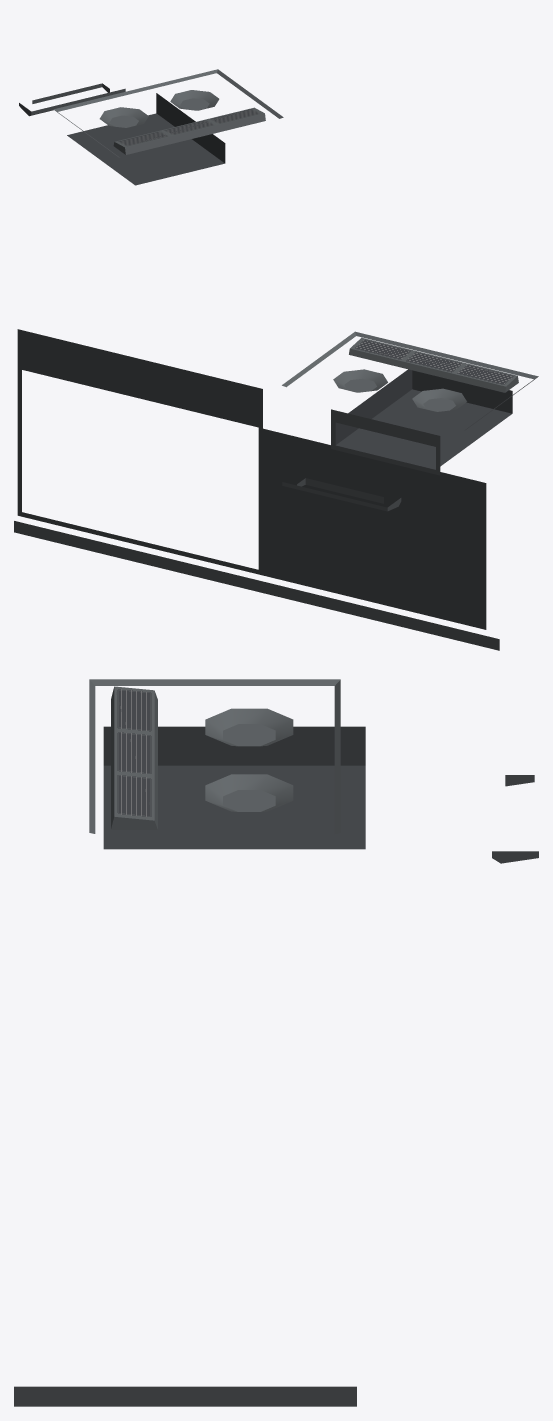
The model's file is kd_stage_135ded_4_53_exterior.glb.
3 views of the same model, one above another, from view 1: azimuth 30°, elevation 25°; view 2: azimuth 150°, elevation 25°; view 3: azimuth 270°, elevation 25° (orthographic). The views are drawn at different scales.
Visible parts, largest first — view 1: kd_stage_135ded_4_53_exterior; view 2: kd_stage_135ded_4_53_exterior; view 3: kd_stage_135ded_4_53_exterior.
Boxes of the visible parts, bbox=[...] form: kd_stage_135ded_4_53_exterior: bbox=[19, 69, 283, 185]; kd_stage_135ded_4_53_exterior: bbox=[14, 329, 538, 650]; kd_stage_135ded_4_53_exterior: bbox=[14, 679, 538, 1406].
Size of the model in its own units: 2.18 by 0.9014 by 1.19.
1 material, 1 textured.
